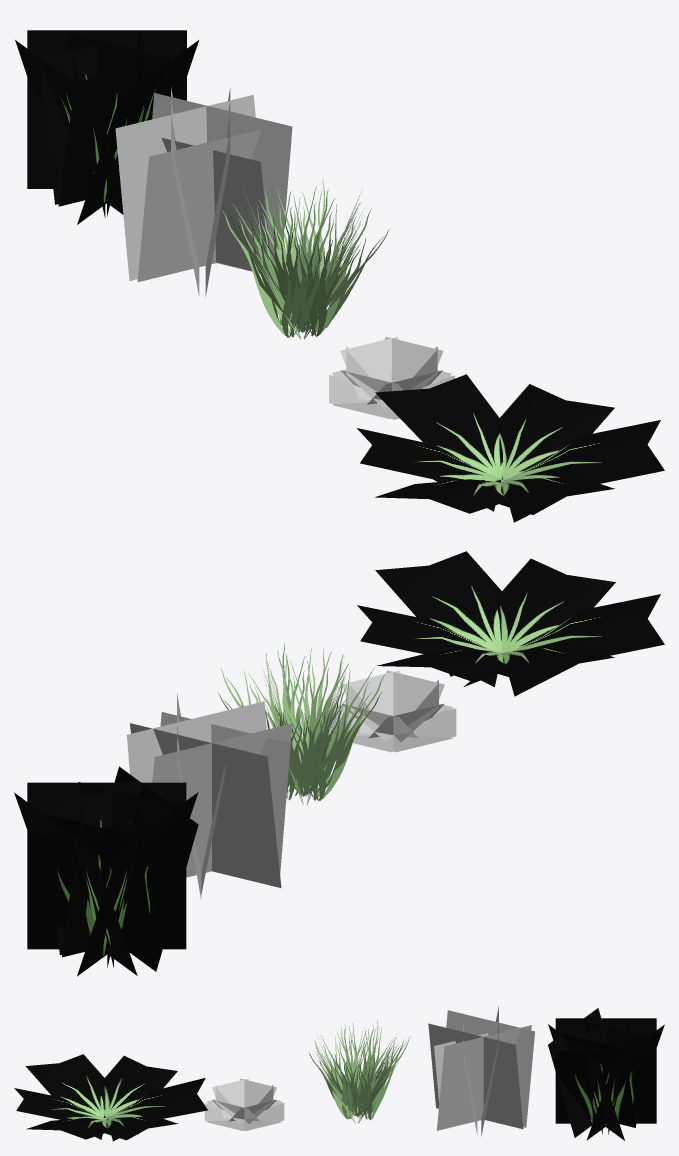
Rendered from weeds.fbx.
The picture shows the model from 3 angles, top to bottom: view 1: azimuth 30°, elevation 25°; view 2: azimuth 150°, elevation 25°; view 3: azimuth 270°, elevation 25°; orthographic projection. The views are drawn at different scales.
Parts seen in each view (by area): view 1: w2, w5, w4, w3, w1; view 2: w4, w2, w5, w3, w1; view 3: w4, w2, w5, w3, w1.
Boxes of the visible parts, x1,y1,x2,y2 form: w2: [357, 374, 664, 522]; w5: [115, 87, 292, 296]; w4: [15, 30, 198, 224]; w3: [222, 178, 389, 339]; w1: [329, 336, 454, 419]; w4: [14, 766, 198, 976]; w2: [357, 551, 664, 696]; w5: [126, 693, 292, 899]; w3: [218, 642, 385, 804]; w1: [330, 670, 456, 752]; w4: [548, 1008, 664, 1140]; w2: [14, 1054, 207, 1141]; w5: [428, 1006, 534, 1136]; w3: [309, 1020, 410, 1123]; w1: [204, 1078, 284, 1130].
Size of the model in its own units: 418 by 226 by 1291.
